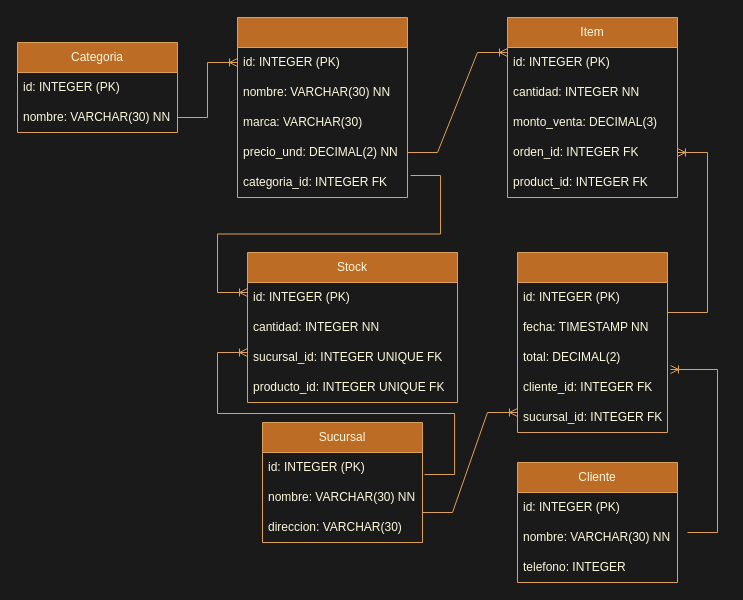
The diagram is 743 pixels wide and 600 high, and some of its shapes have lost their labels. The shapes that lost their labels are listed below. From the top down, each one's box as (x1, y1, x2, y2) in pixels, then its label:
(236, 16, 408, 198): Producto
(516, 252, 668, 432): Orden
